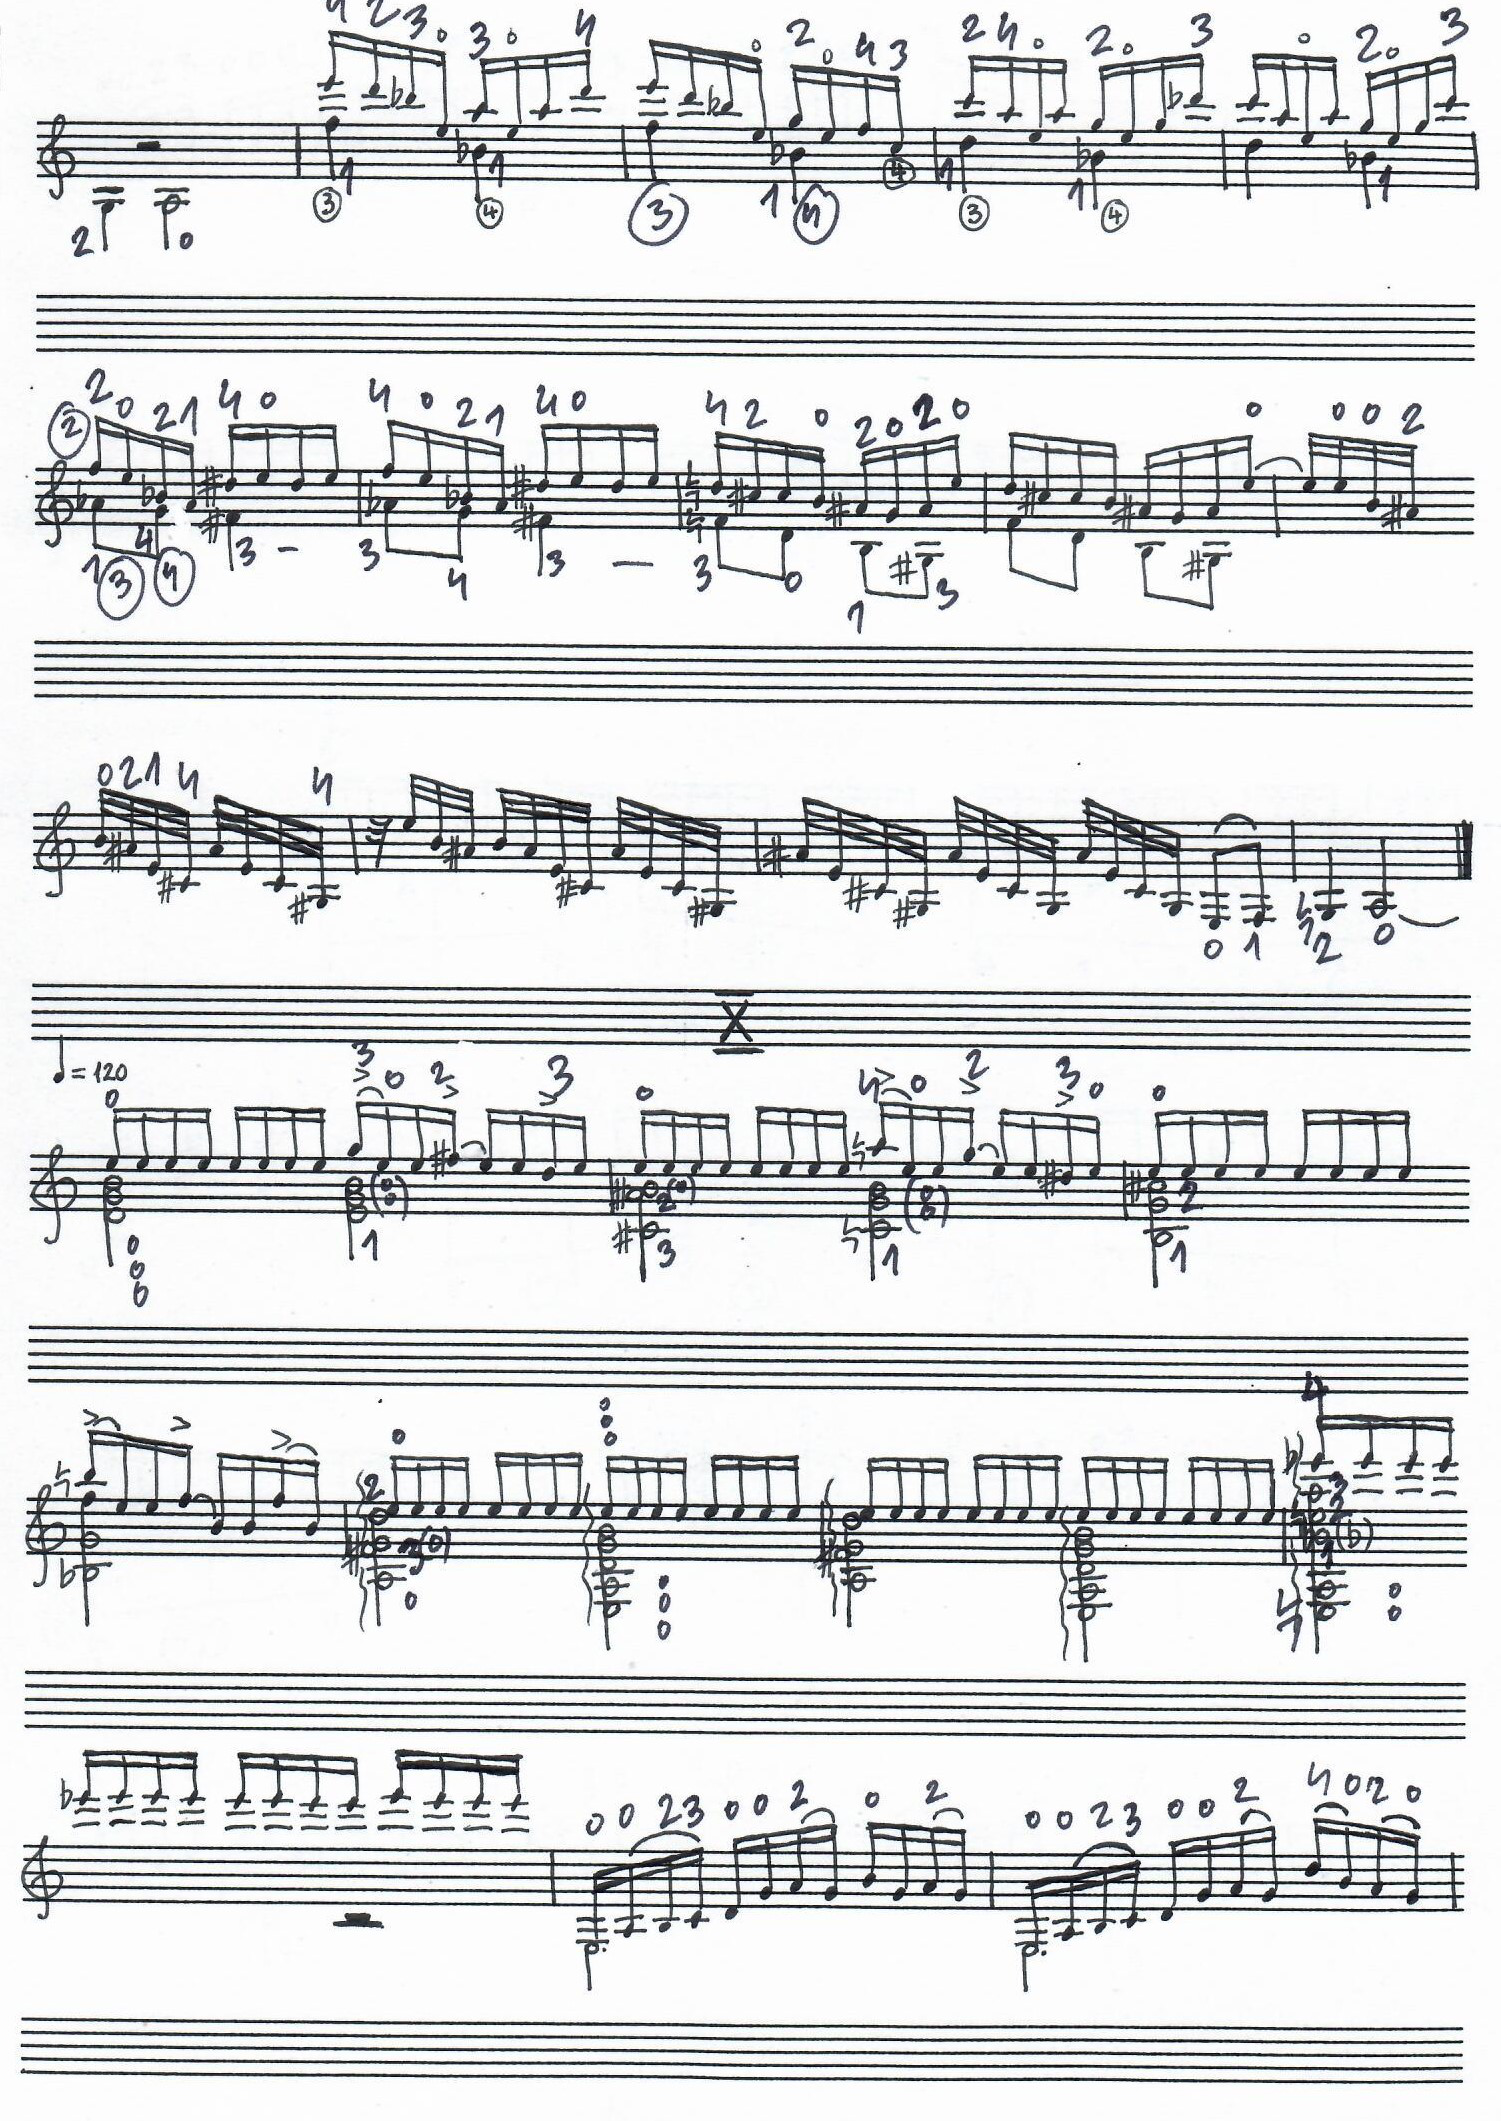Barline: (1451, 819, 1473, 879), (669, 468, 686, 534), (1467, 128, 1482, 193), (1444, 1850, 1459, 1911), (815, 1497, 828, 1566), (1220, 122, 1231, 195), (348, 815, 361, 879), (617, 122, 630, 182), (1119, 1156, 1131, 1221), (1270, 474, 1282, 538), (1288, 820, 1300, 882), (292, 122, 304, 180), (547, 1847, 559, 1903), (981, 471, 991, 533), (931, 127, 941, 187), (343, 1496, 351, 1567), (1280, 1502, 1288, 1572), (988, 1848, 996, 1915), (754, 815, 762, 879), (354, 464, 362, 526), (609, 1156, 616, 1223)
Beam: (802, 797, 929, 857), (952, 799, 1061, 857), (590, 1843, 710, 1895), (1084, 797, 1179, 859), (616, 793, 725, 846), (218, 797, 323, 853), (390, 1744, 530, 1777), (327, 31, 445, 68), (729, 1822, 846, 1860), (1144, 430, 1254, 469), (650, 37, 763, 75), (101, 789, 192, 835), (388, 422, 507, 456), (96, 417, 193, 458), (1025, 1863, 1145, 1895), (1171, 1824, 1275, 1861), (1309, 432, 1413, 468), (1313, 1817, 1421, 1851), (88, 1432, 195, 1467), (866, 1817, 973, 1851), (1368, 54, 1457, 94), (500, 786, 588, 827), (479, 47, 595, 78), (1296, 1101, 1417, 1130), (997, 1104, 1105, 1137), (861, 435, 962, 469), (788, 65, 903, 94), (712, 432, 825, 461), (1148, 1106, 1274, 1132), (1314, 1416, 1467, 1437), (486, 1106, 595, 1135), (1009, 434, 1118, 461), (747, 1101, 850, 1130), (214, 1450, 322, 1478), (1181, 1450, 1282, 1480), (1101, 54, 1204, 81), (236, 1752, 367, 1773), (76, 1747, 198, 1770), (409, 773, 478, 810), (707, 1450, 804, 1476), (643, 1108, 733, 1135), (489, 1444, 588, 1468), (354, 1103, 460, 1125), (867, 1454, 954, 1481), (1077, 1457, 1171, 1480), (226, 422, 340, 440), (967, 57, 1069, 76), (601, 1454, 694, 1475), (716, 560, 783, 590), (877, 1106, 976, 1125), (544, 425, 656, 442), (388, 1454, 474, 1475), (1009, 567, 1079, 593), (115, 1104, 213, 1122), (963, 1454, 1066, 1470), (1140, 591, 1217, 612), (1252, 52, 1340, 70), (89, 541, 162, 560), (231, 1108, 327, 1122), (864, 586, 928, 604), (387, 547, 466, 560), (1213, 840, 1261, 861)
Chord: (1301, 1484, 1337, 1653), (1069, 1527, 1103, 1665), (364, 1504, 395, 1627), (837, 1514, 867, 1627), (630, 1177, 658, 1288), (78, 1492, 99, 1626), (1145, 1181, 1170, 1288), (101, 1173, 127, 1268), (867, 1181, 890, 1281), (599, 1523, 617, 1648), (344, 1171, 366, 1265)
Dot: (1040, 1947, 1046, 1957), (603, 1946, 608, 1954)
Eighth-Note: (1001, 516, 1027, 577), (1252, 836, 1269, 927), (1066, 528, 1085, 593), (712, 513, 733, 570), (1212, 848, 1225, 931), (382, 497, 400, 555), (775, 526, 794, 580), (856, 544, 876, 594), (1139, 546, 1157, 598), (916, 555, 937, 599), (456, 507, 473, 560), (153, 503, 167, 559), (1205, 555, 1218, 612), (91, 497, 104, 552)
Flat: (364, 477, 380, 521), (442, 471, 460, 510), (55, 1778, 73, 1814), (1342, 141, 1360, 175), (705, 84, 721, 120), (138, 471, 154, 507), (770, 128, 786, 162), (1166, 81, 1183, 114), (58, 1557, 75, 1588), (1347, 1520, 1361, 1553), (73, 481, 88, 513), (391, 75, 404, 110)
G-Clef: (36, 1143, 76, 1247), (26, 1486, 63, 1587), (23, 1830, 62, 1924), (41, 801, 75, 903), (39, 114, 76, 201), (37, 461, 71, 552)
Half-Note: (1368, 836, 1392, 921), (158, 197, 180, 252), (1019, 1941, 1040, 1986), (582, 1941, 601, 1989)
Half-Rest: (336, 1911, 374, 1923), (136, 140, 162, 153)
Natural: (682, 458, 703, 508), (841, 1215, 863, 1255), (50, 1458, 70, 1497), (686, 508, 703, 544)
Quarter-Note: (638, 120, 668, 184), (1239, 138, 1265, 201), (1319, 846, 1339, 924), (323, 119, 343, 185), (1088, 149, 1108, 214), (223, 508, 240, 573), (957, 133, 976, 192), (1358, 149, 1376, 213), (469, 145, 486, 205), (538, 512, 552, 577), (788, 149, 804, 205), (50, 1035, 67, 1082), (99, 201, 114, 253)
Sharp: (762, 833, 789, 882), (1111, 492, 1142, 534), (885, 555, 923, 585), (725, 474, 752, 513), (341, 1531, 364, 1575), (841, 875, 867, 913), (1040, 1156, 1062, 1199), (1382, 494, 1407, 533), (508, 466, 531, 507), (825, 489, 850, 526), (815, 1536, 837, 1579), (893, 893, 913, 935), (198, 464, 219, 503), (1126, 1168, 1148, 1203), (1179, 551, 1207, 580), (443, 833, 463, 874), (200, 508, 223, 542), (609, 1176, 630, 1212), (158, 870, 179, 906), (512, 507, 538, 534), (289, 890, 309, 926), (611, 1220, 632, 1252), (686, 898, 708, 927), (556, 875, 573, 906), (109, 833, 123, 870), (1020, 482, 1038, 512)
Sixteenth-Note: (1027, 52, 1049, 146), (1163, 1835, 1186, 1924), (880, 442, 903, 521), (1259, 1824, 1282, 1903), (726, 1830, 746, 1923), (539, 1111, 564, 1184), (1058, 1869, 1082, 1942), (240, 1452, 262, 1535), (918, 440, 939, 521), (621, 1861, 642, 1941), (656, 1855, 677, 1934), (1121, 58, 1140, 145), (854, 445, 877, 518), (889, 68, 908, 153), (689, 1847, 708, 1929), (892, 1821, 911, 1903), (468, 55, 491, 125), (1304, 1812, 1327, 1882), (114, 1432, 133, 1514), (993, 1104, 1014, 1179), (569, 421, 591, 489), (1293, 1109, 1316, 1177), (304, 1457, 323, 1536), (929, 1104, 950, 1177), (1179, 1108, 1200, 1181), (1207, 434, 1225, 520), (1300, 54, 1316, 148), (630, 1108, 653, 1174), (292, 422, 314, 494), (1196, 1834, 1217, 1905), (750, 50, 767, 141), (1213, 1108, 1233, 1182), (609, 424, 630, 492), (508, 1108, 530, 1176), (508, 54, 525, 141), (958, 50, 983, 109), (479, 1103, 499, 1176), (780, 1104, 799, 1177), (820, 63, 838, 143), (707, 429, 728, 495), (786, 60, 806, 132), (811, 442, 830, 513), (902, 1103, 919, 1181), (1126, 1855, 1144, 1933), (859, 1457, 880, 1522), (388, 1744, 411, 1804), (1252, 1104, 1270, 1181), (1038, 434, 1058, 503), (198, 1103, 218, 1173), (377, 1099, 396, 1169), (408, 1103, 427, 1173), (661, 1108, 681, 1177), (1173, 442, 1189, 525), (515, 1449, 534, 1517), (702, 1452, 721, 1520), (993, 1454, 1012, 1522), (543, 1445, 560, 1518), (1095, 1863, 1113, 1936), (107, 1108, 128, 1169), (872, 1098, 893, 1160), (573, 1109, 593, 1176), (1308, 1413, 1330, 1470), (435, 49, 450, 136), (858, 68, 876, 140), (1023, 1108, 1041, 1179), (1329, 1109, 1347, 1181), (965, 1450, 983, 1522), (776, 440, 798, 500), (322, 28, 341, 93), (1090, 57, 1106, 135), (1417, 57, 1433, 135), (453, 1454, 473, 1518), (565, 1452, 585, 1517), (781, 1452, 801, 1517), (1365, 1111, 1382, 1181), (487, 1445, 505, 1515), (863, 1819, 880, 1889), (1407, 1834, 1425, 1903), (1152, 55, 1168, 132), (1275, 52, 1291, 128), (146, 1439, 162, 1515), (164, 1108, 184, 1171), (283, 1109, 302, 1173), (687, 1114, 708, 1173), (1244, 44, 1262, 112), (310, 1104, 328, 1173), (1231, 1830, 1249, 1899), (1337, 1821, 1355, 1889), (536, 419, 552, 494), (1389, 63, 1404, 146), (1148, 1111, 1166, 1177), (1017, 1455, 1035, 1522), (750, 1104, 767, 1177), (257, 421, 275, 486), (643, 417, 660, 489), (1087, 1112, 1105, 1177), (759, 1450, 775, 1522), (789, 1824, 806, 1895), (921, 1829, 939, 1894), (349, 1099, 369, 1158), (825, 1824, 840, 1902), (156, 434, 172, 503), (1004, 429, 1020, 499), (1103, 438, 1119, 508), (806, 1108, 822, 1177), (1075, 1454, 1092, 1523), (1181, 1454, 1197, 1523), (936, 1457, 954, 1520), (1235, 1458, 1252, 1522), (1402, 1413, 1420, 1476), (460, 435, 476, 503), (179, 1442, 195, 1510), (1045, 1454, 1061, 1522), (889, 1457, 906, 1518), (760, 1829, 775, 1903), (954, 1829, 968, 1903), (409, 1450, 426, 1517), (1369, 1825, 1384, 1899), (1358, 70, 1374, 135), (325, 421, 341, 486), (1071, 440, 1087, 505), (599, 1454, 616, 1518), (729, 1452, 746, 1517), (1129, 1457, 1145, 1522), (1153, 1458, 1170, 1523), (539, 49, 554, 120), (1053, 55, 1067, 127), (226, 422, 240, 494), (1139, 448, 1153, 520), (1061, 1112, 1075, 1184), (80, 1429, 99, 1483), (430, 1752, 448, 1811), (382, 417, 398, 481), (120, 425, 138, 482), (648, 1457, 664, 1518), (913, 1457, 929, 1518), (1002, 54, 1017, 122), (257, 1104, 271, 1173), (643, 37, 661, 93), (403, 45, 419, 106), (229, 1103, 244, 1169), (835, 1109, 850, 1176), (962, 1103, 976, 1169), (1209, 1457, 1223, 1523), (1261, 1457, 1275, 1523), (497, 442, 510, 516), (1399, 1108, 1412, 1182), (270, 1457, 288, 1510), (721, 49, 736, 114), (1443, 54, 1459, 112), (91, 413, 106, 477), (750, 437, 765, 502), (629, 1454, 643, 1518), (344, 1754, 361, 1812), (1438, 1415, 1454, 1473), (421, 424, 435, 487), (676, 1457, 690, 1520), (114, 1747, 130, 1804), (185, 1751, 201, 1808), (1360, 1413, 1376, 1470), (1326, 54, 1339, 123), (387, 1454, 401, 1515), (1106, 1455, 1119, 1523), (447, 1108, 461, 1168), (309, 1752, 323, 1812), (213, 1447, 223, 1536), (232, 1752, 249, 1806), (367, 37, 382, 96), (684, 44, 699, 102), (270, 1751, 284, 1809), (720, 1109, 733, 1174), (508, 1751, 521, 1814), (1191, 50, 1205, 106), (1243, 430, 1256, 492), (435, 1454, 448, 1515), (950, 430, 963, 490), (140, 1108, 153, 1168), (185, 442, 197, 510), (469, 1754, 482, 1812), (80, 1751, 93, 1808), (149, 1747, 162, 1804), (580, 49, 595, 96)
Thirty-Two-Note: (175, 802, 198, 893), (1166, 828, 1187, 919), (640, 801, 663, 880), (1131, 819, 1150, 905), (671, 814, 690, 896), (876, 819, 895, 901), (708, 825, 725, 921), (947, 793, 968, 866), (551, 794, 569, 880), (1006, 822, 1025, 898), (976, 799, 993, 888), (828, 806, 846, 885), (1301, 429, 1322, 495), (271, 810, 288, 893), (400, 768, 421, 832), (145, 801, 162, 875), (794, 794, 814, 862), (429, 776, 447, 849), (1105, 810, 1123, 883), (461, 784, 478, 864), (1075, 794, 1093, 866), (580, 799, 593, 896), (1046, 832, 1061, 916), (1366, 438, 1382, 513), (916, 827, 929, 919), (210, 789, 226, 862), (123, 793, 141, 857), (317, 822, 330, 909), (93, 786, 110, 849), (492, 786, 510, 849), (525, 789, 541, 857), (239, 802, 253, 877), (611, 796, 627, 861), (1407, 442, 1420, 520), (1332, 435, 1348, 492)
Thirty-Two-Rest: (366, 815, 395, 874)
Tie-Slur: (627, 1830, 700, 1858), (1072, 1842, 1139, 1868), (1210, 810, 1259, 836), (1395, 913, 1464, 929), (1254, 451, 1303, 474), (929, 1799, 967, 1824), (1235, 1804, 1274, 1825), (798, 1806, 840, 1824), (1381, 1811, 1420, 1829), (193, 1491, 218, 1518), (89, 1415, 123, 1431), (284, 1442, 318, 1458), (1313, 1799, 1347, 1816), (461, 1135, 486, 1155), (880, 1086, 910, 1099)
